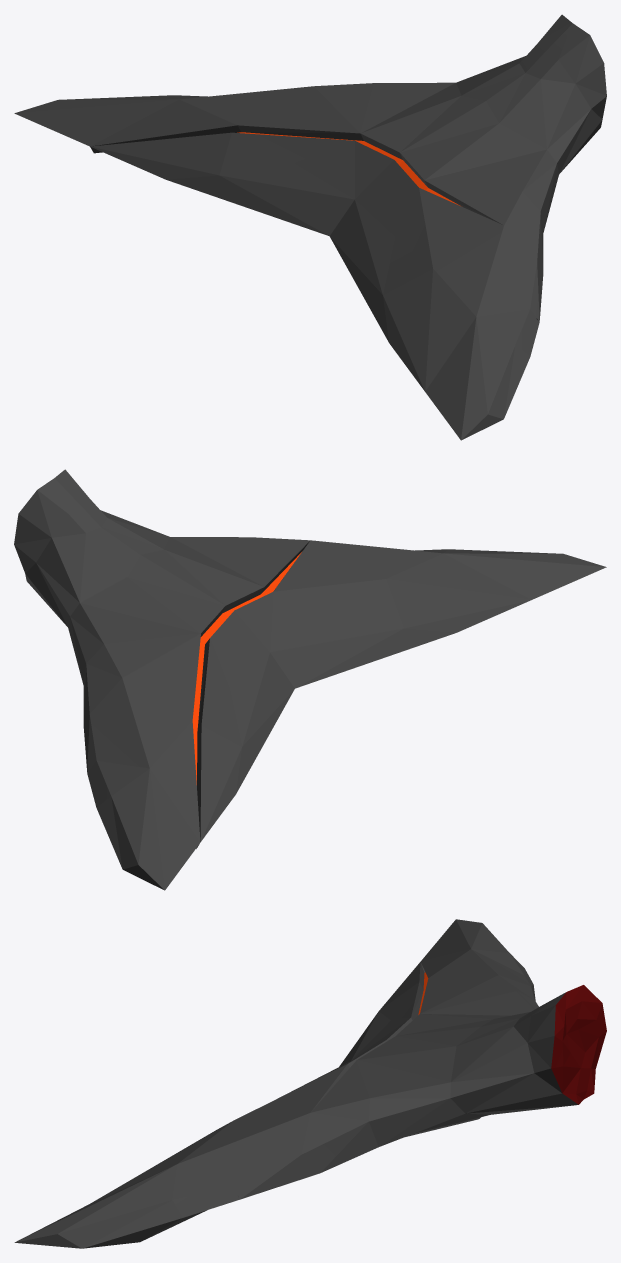
File: Resources__items__trophies__Whale Fin.glb
The picture shows the model from 3 angles, top to bottom: view 1: azimuth 30°, elevation 25°; view 2: azimuth 150°, elevation 25°; view 3: azimuth 330°, elevation 25°; orthographic projection.
Visible parts, largest first — view 1: WhaleFin; view 2: WhaleFin; view 3: WhaleFin.
Part boxes in pixels (box(x1,y1,x2,y2)): WhaleFin: box(14, 14, 606, 440); WhaleFin: box(14, 469, 606, 890); WhaleFin: box(14, 919, 606, 1248).
Size of the model in its own units: 2.04 by 0.9745 by 4.45.
1 material, 1 textured.
